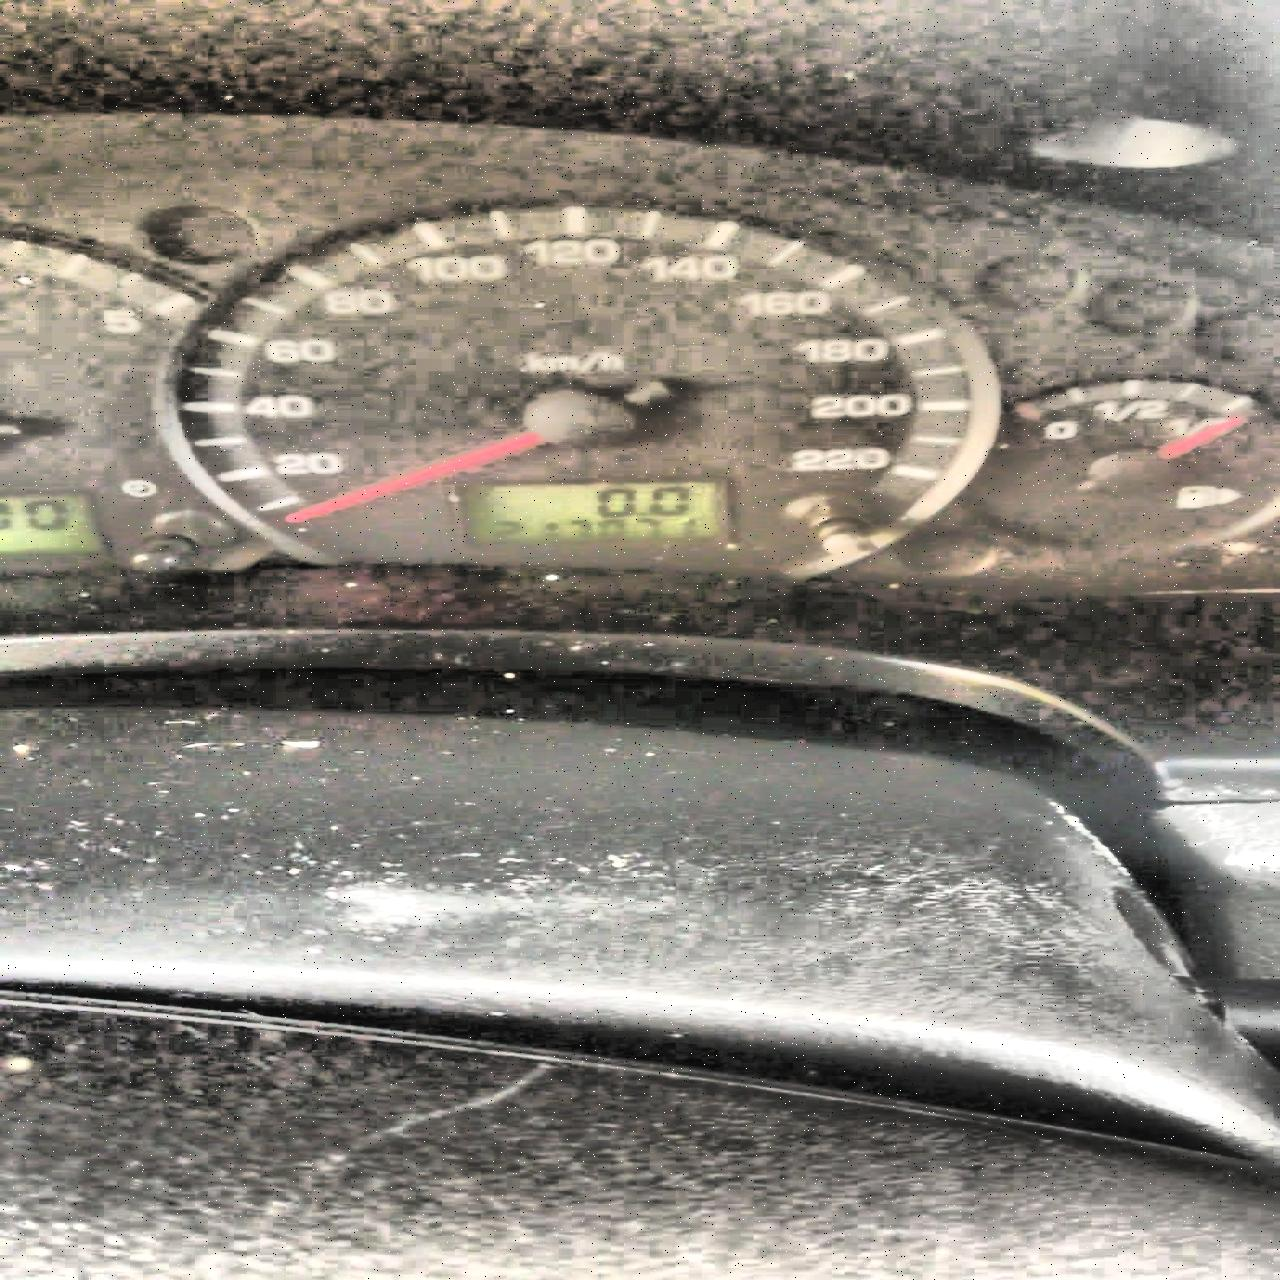0: (645, 484, 687, 516), (597, 486, 634, 516), (595, 517, 627, 539)
1: (679, 517, 697, 536), (542, 520, 557, 542)
2: (489, 519, 520, 543)
7: (564, 518, 591, 540), (634, 517, 661, 539)
odometer: (445, 476, 737, 550)
